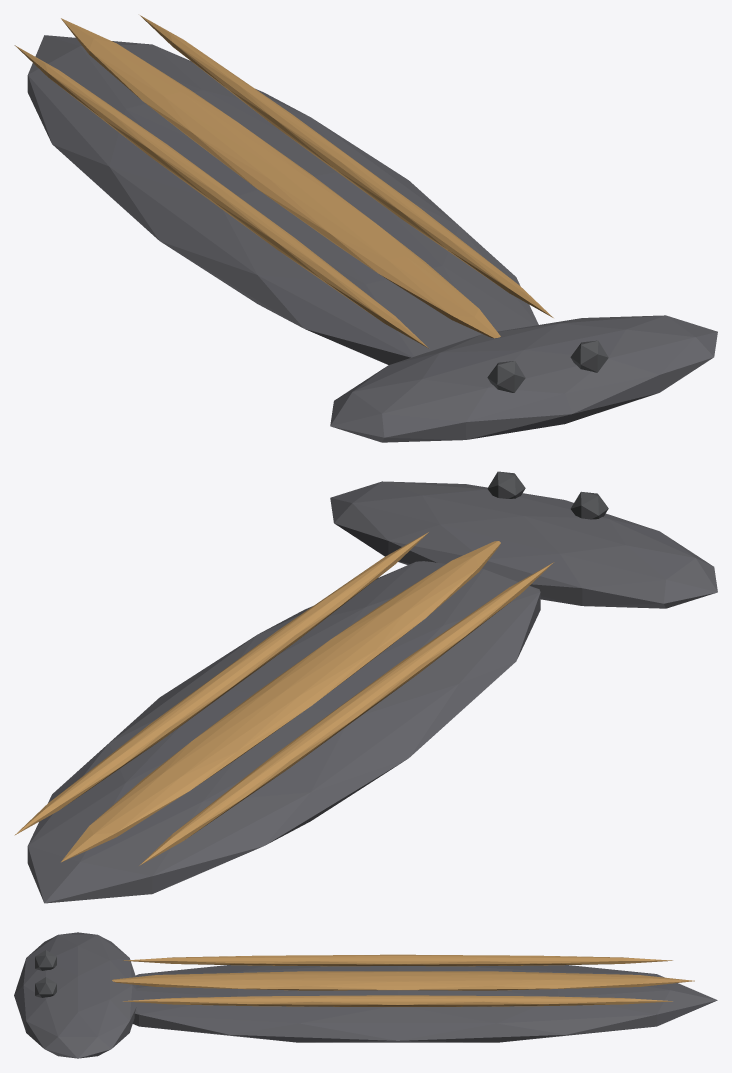
The model's file is platydemus-manokwari.glb.
3 renders of one model, top to bottom at view 1: azimuth 30°, elevation 25°; view 2: azimuth 150°, elevation 25°; view 3: azimuth 270°, elevation 25°, orthographic. The views are drawn at different scales.
Visible parts, largest first — view 1: body, headfan, stripe, stripe2, stripe3, eye-1, eye1; view 2: body, headfan, stripe, stripe3, stripe2, eye-1, eye1; view 3: body, headfan, stripe, stripe2, stripe3, eye1, eye-1.
Part boxes in pixels (x1,y1,x2,y2): body: (27, 35, 538, 364); headfan: (330, 315, 717, 442); stripe: (61, 18, 500, 338); stripe2: (140, 15, 553, 317); stripe3: (14, 45, 428, 348); eye-1: (487, 361, 525, 392); eye1: (570, 340, 608, 372); body: (27, 561, 540, 903); headfan: (330, 481, 717, 608); stripe: (61, 541, 500, 862); stripe3: (139, 562, 553, 865); stripe2: (14, 532, 428, 835); eye-1: (570, 491, 608, 519); eye1: (487, 471, 525, 498); body: (133, 965, 717, 1042); headfan: (14, 932, 136, 1058); stripe: (112, 971, 694, 990); stripe2: (123, 995, 672, 1006); stripe3: (123, 954, 672, 966); eye1: (35, 977, 56, 997); eye-1: (35, 950, 56, 970).
Size of the model in its own units: 0.28 by 0.0552 by 0.66.
